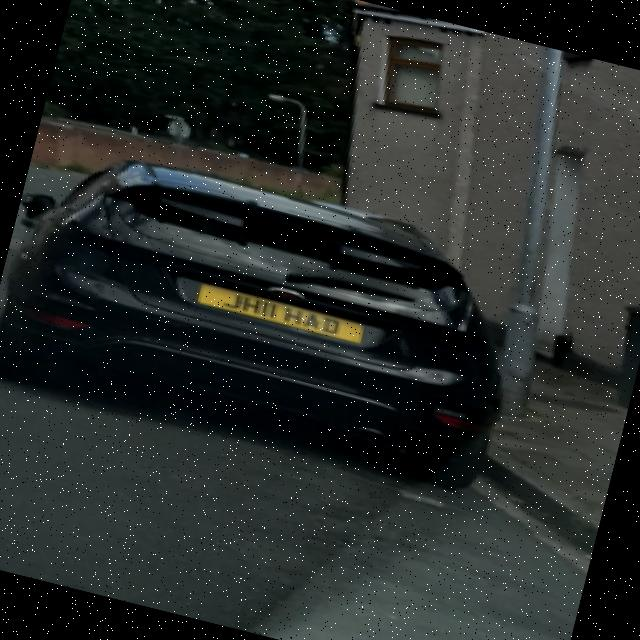Autre: (167, 272, 409, 359)
